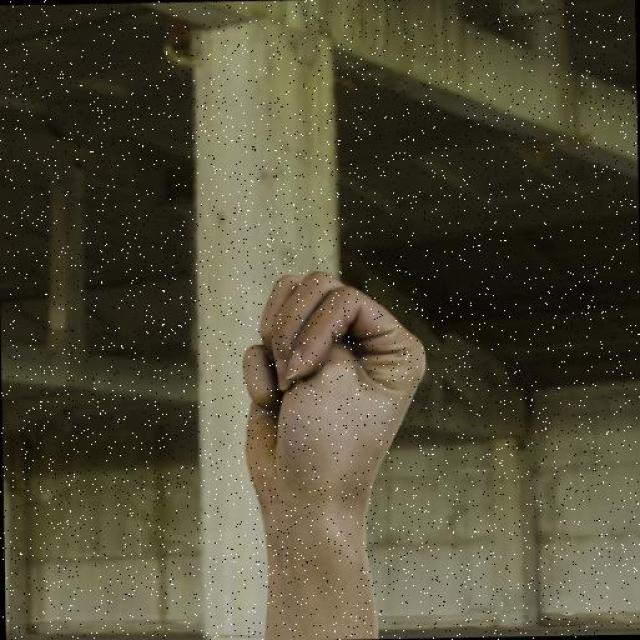M: (237, 267, 433, 514)
